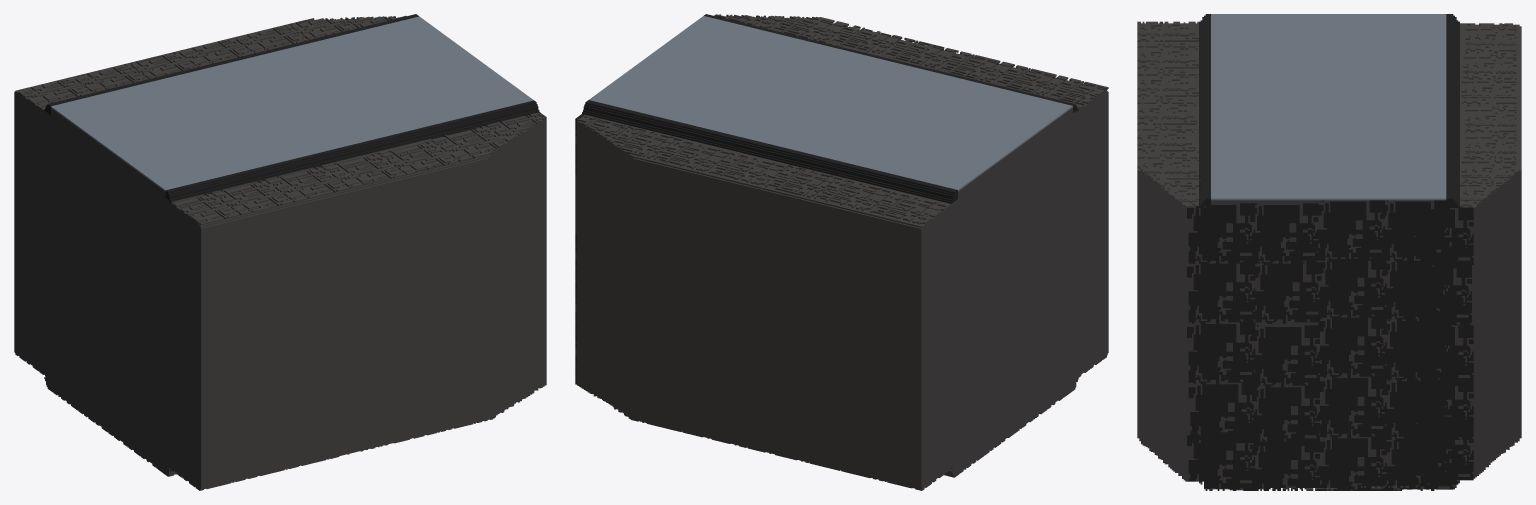
File: Space ship-15.obj
The picture shows the model from 3 angles, left to right: view 1: azimuth 30°, elevation 25°; view 2: azimuth 150°, elevation 25°; view 3: azimuth 270°, elevation 25°; orthographic projection. The views are drawn at different scales.
Bounding box in the file's own units: 25.6 × 18.9 × 22.5.
Materials: 1 (1 with a texture image).
